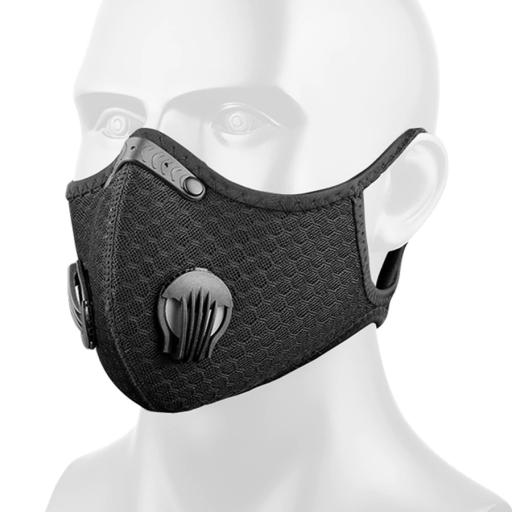mask: (46, 127, 413, 419)
